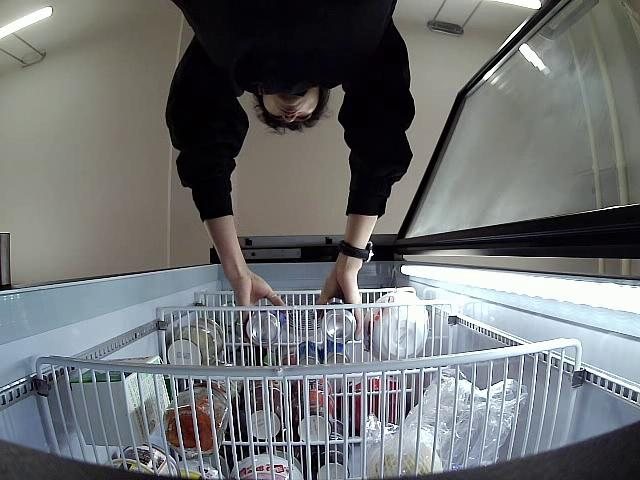00_hand: (316, 269, 366, 342), (236, 268, 287, 324)
13_pocariSweat: (242, 308, 282, 349), (323, 300, 359, 341)
